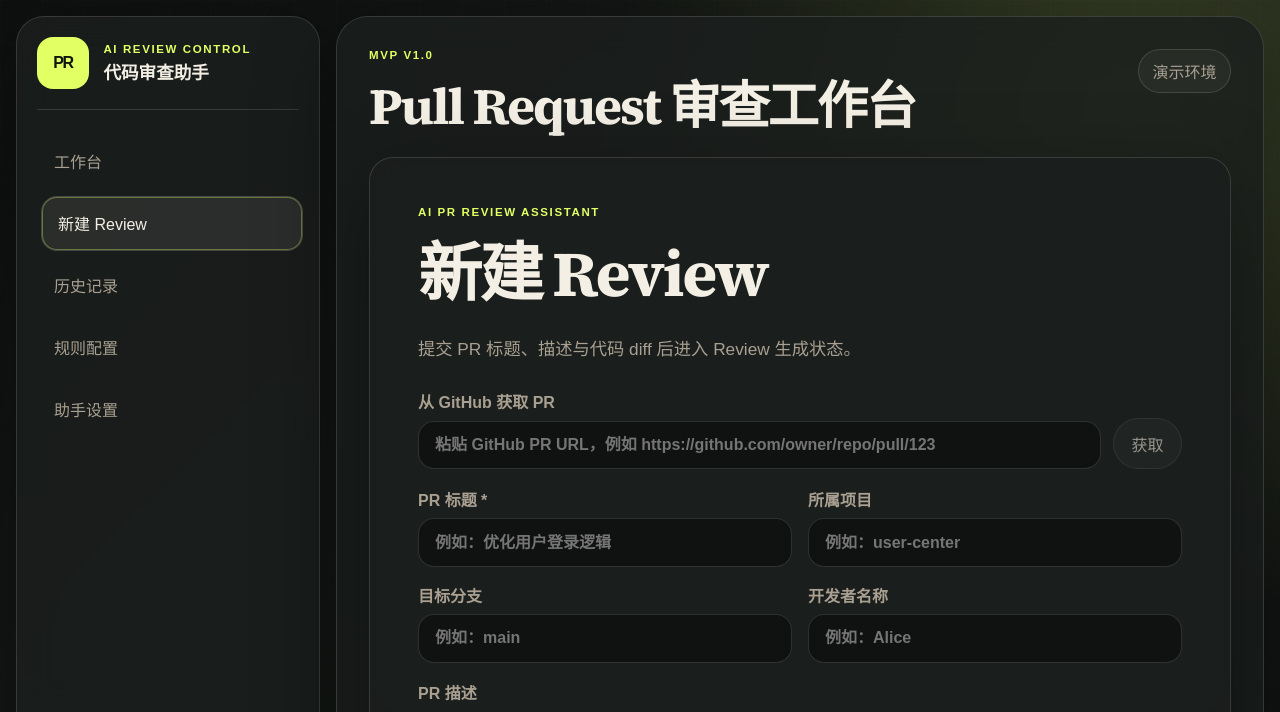
Scenario: PR fetch on new review page › shows error on fetch failure
In the field with placeholder "粘贴 GitHub PR URL，例如 https://github.com/owner/repo/pull/123": [759, 445] box [418,420,1101,469], type "https://github.com/owner/repo/pull/1"
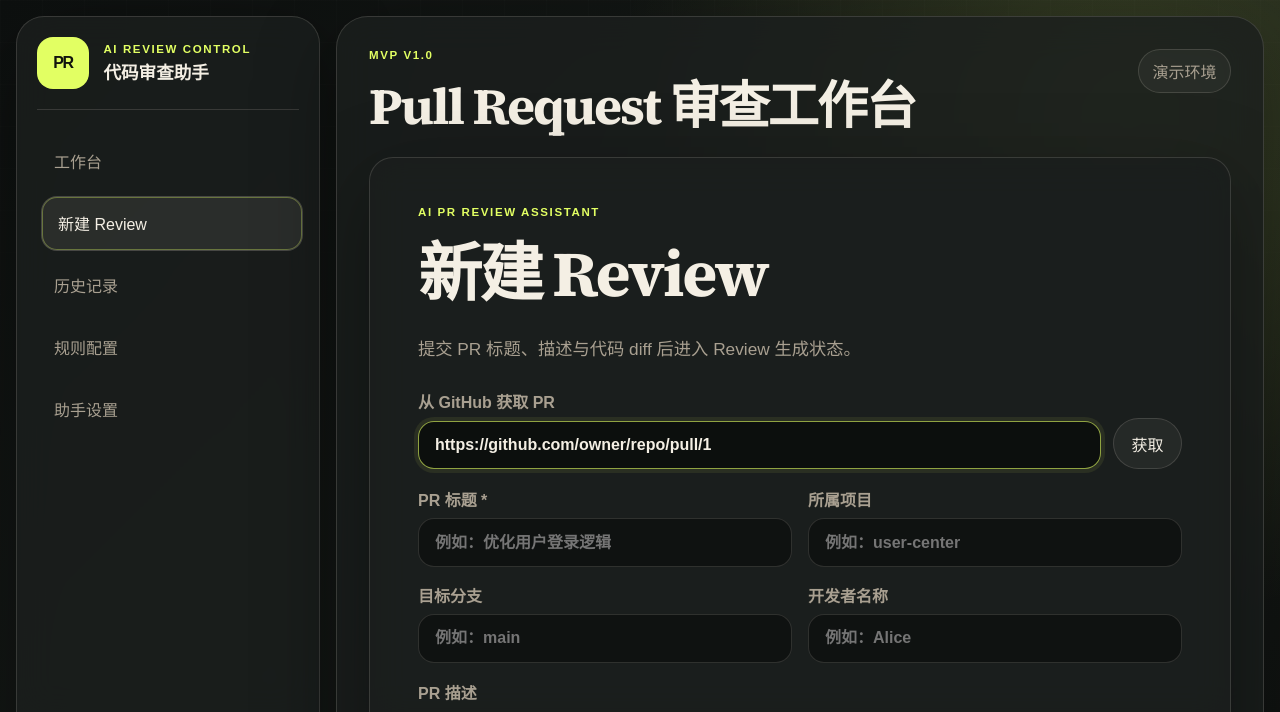
Click the button "获取": [1147, 444] box [1113,418,1182,469]
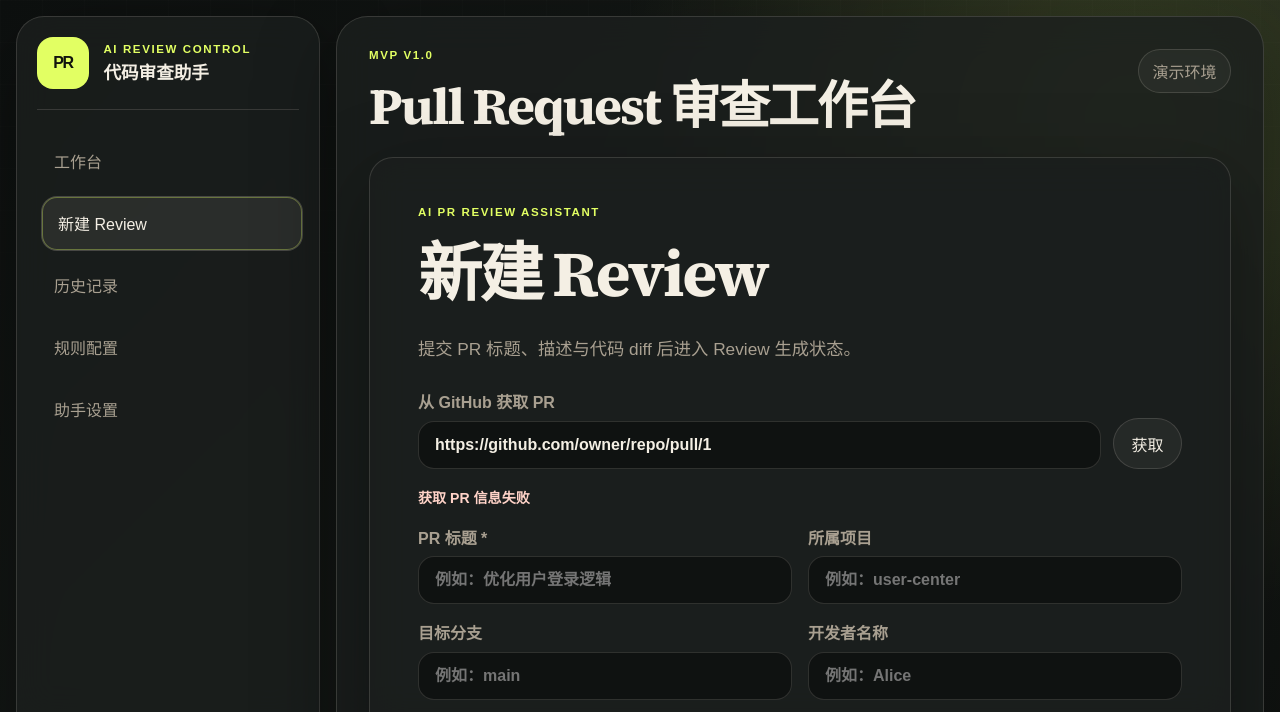
expect the text "获取 PR 信息失败" is shown: met, box [418,490,530,506]
